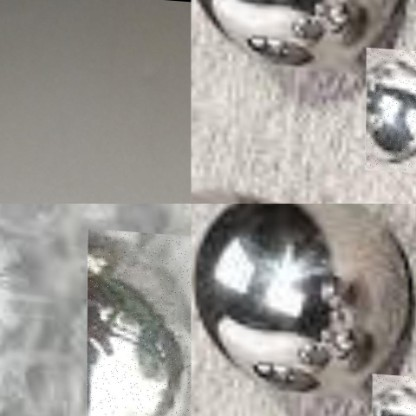ironball: (191, 203, 415, 402), (86, 224, 191, 415), (191, 0, 415, 75), (191, 159, 373, 203), (365, 41, 415, 168), (371, 367, 415, 415)
